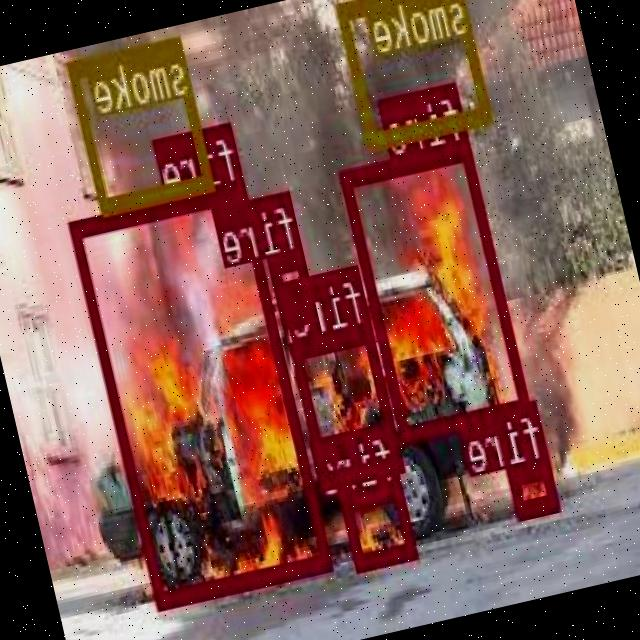fire: (70, 180, 334, 606), (342, 138, 532, 440), (292, 322, 404, 484), (341, 479, 418, 567), (270, 246, 320, 324), (508, 454, 562, 516)
smoke: (69, 34, 215, 212), (336, 0, 493, 144)
